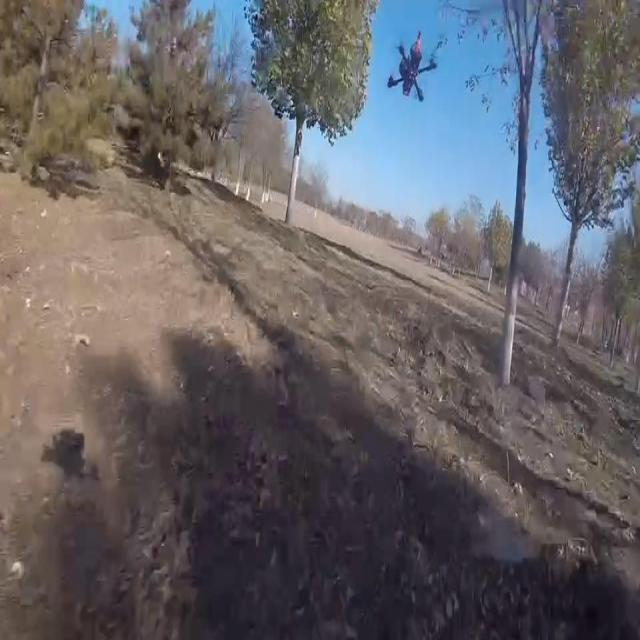drone: (382, 34, 441, 111)
